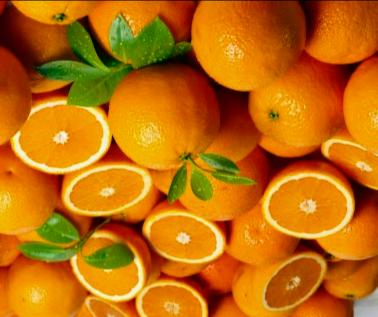cam: (110, 62, 217, 192)
